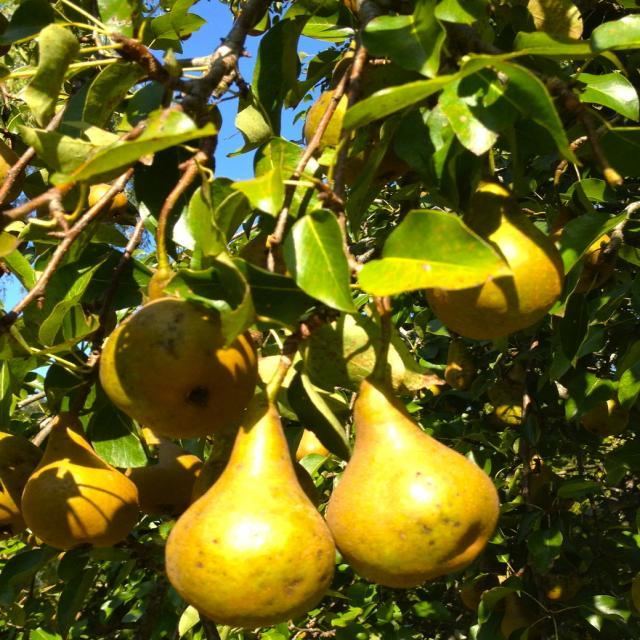Pear: (163, 392, 336, 630), (324, 369, 500, 589), (95, 295, 265, 436), (422, 179, 566, 344), (23, 408, 140, 552), (301, 85, 426, 183), (125, 445, 232, 515), (557, 220, 608, 300), (0, 440, 36, 546), (77, 182, 131, 220), (443, 333, 485, 380), (0, 127, 26, 198), (494, 382, 528, 424), (0, 431, 32, 466)
